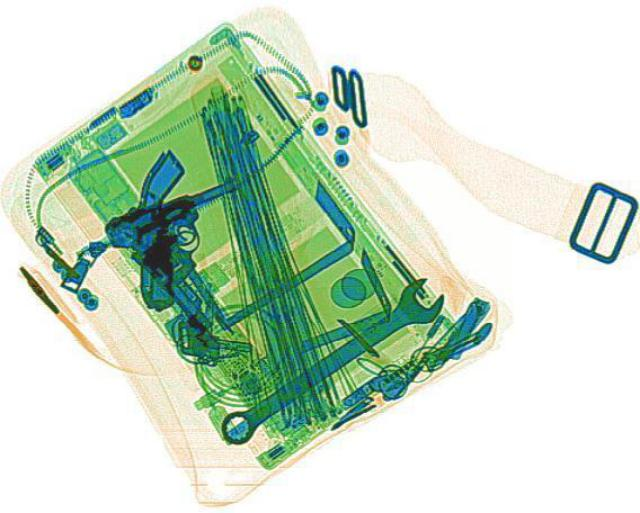Gun: (76, 145, 286, 338)
Wrench: (200, 272, 458, 450)
